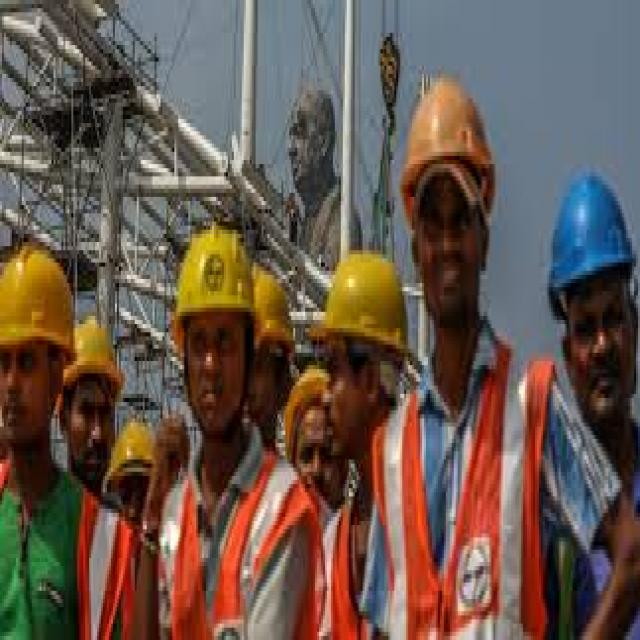Reflective-Jacket: (394, 344, 525, 640), (161, 447, 315, 640)
Safety-Helmet: (162, 205, 290, 345), (394, 66, 502, 205), (305, 238, 414, 373), (539, 160, 640, 304), (1, 230, 81, 365), (63, 304, 127, 402)
